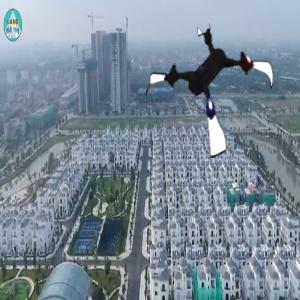drone: (144, 22, 282, 160)
